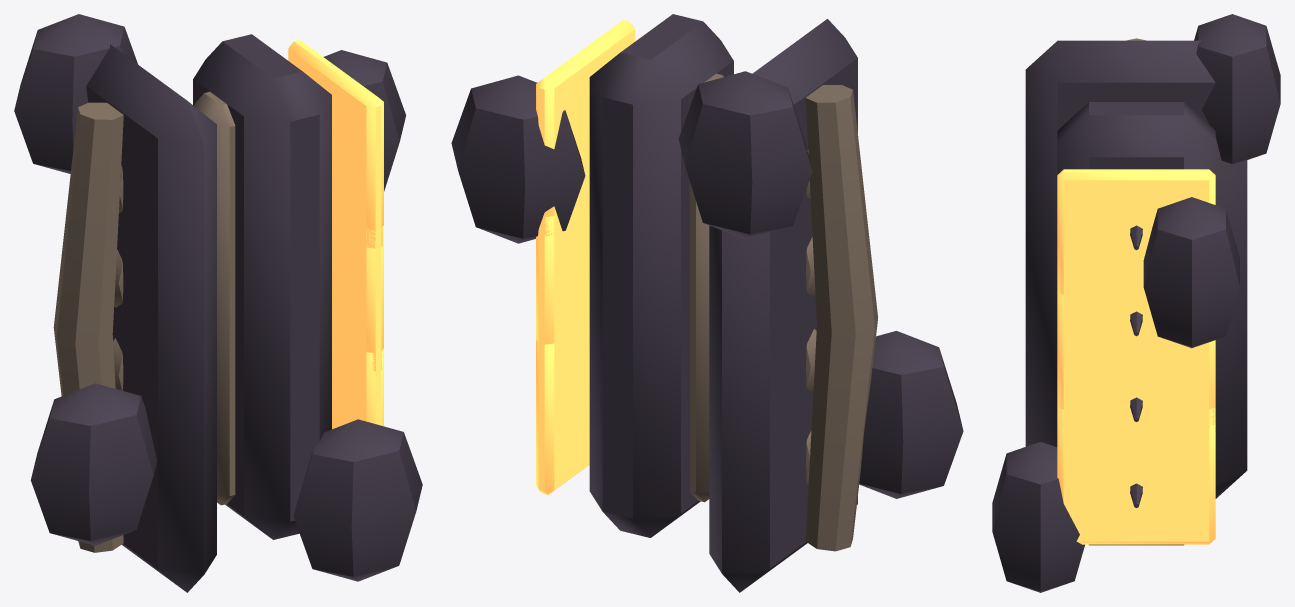
File: fa_titans_knuckle.glb
3 views of the same model, side by side, from view 1: azimuth 30°, elevation 25°; view 2: azimuth 150°, elevation 25°; view 3: azimuth 270°, elevation 25° (orthographic). The views are drawn at different scales.
Parts seen in each view (by area): view 1: fa_titans_knuckle; view 2: fa_titans_knuckle; view 3: fa_titans_knuckle.
Boxes of the visible parts, <box> form: fa_titans_knuckle: <box>14,14,422,592</box>; fa_titans_knuckle: <box>451,14,963,592</box>; fa_titans_knuckle: <box>992,14,1280,592</box>.
Size of the model in its own units: 0.1479 by 0.174 by 0.0911.
